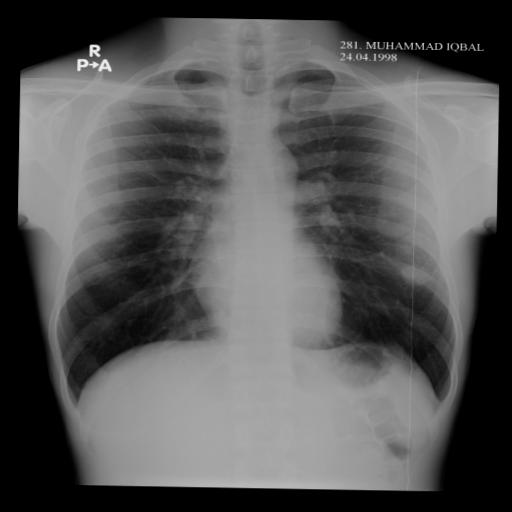normal: (46, 26, 473, 440)
